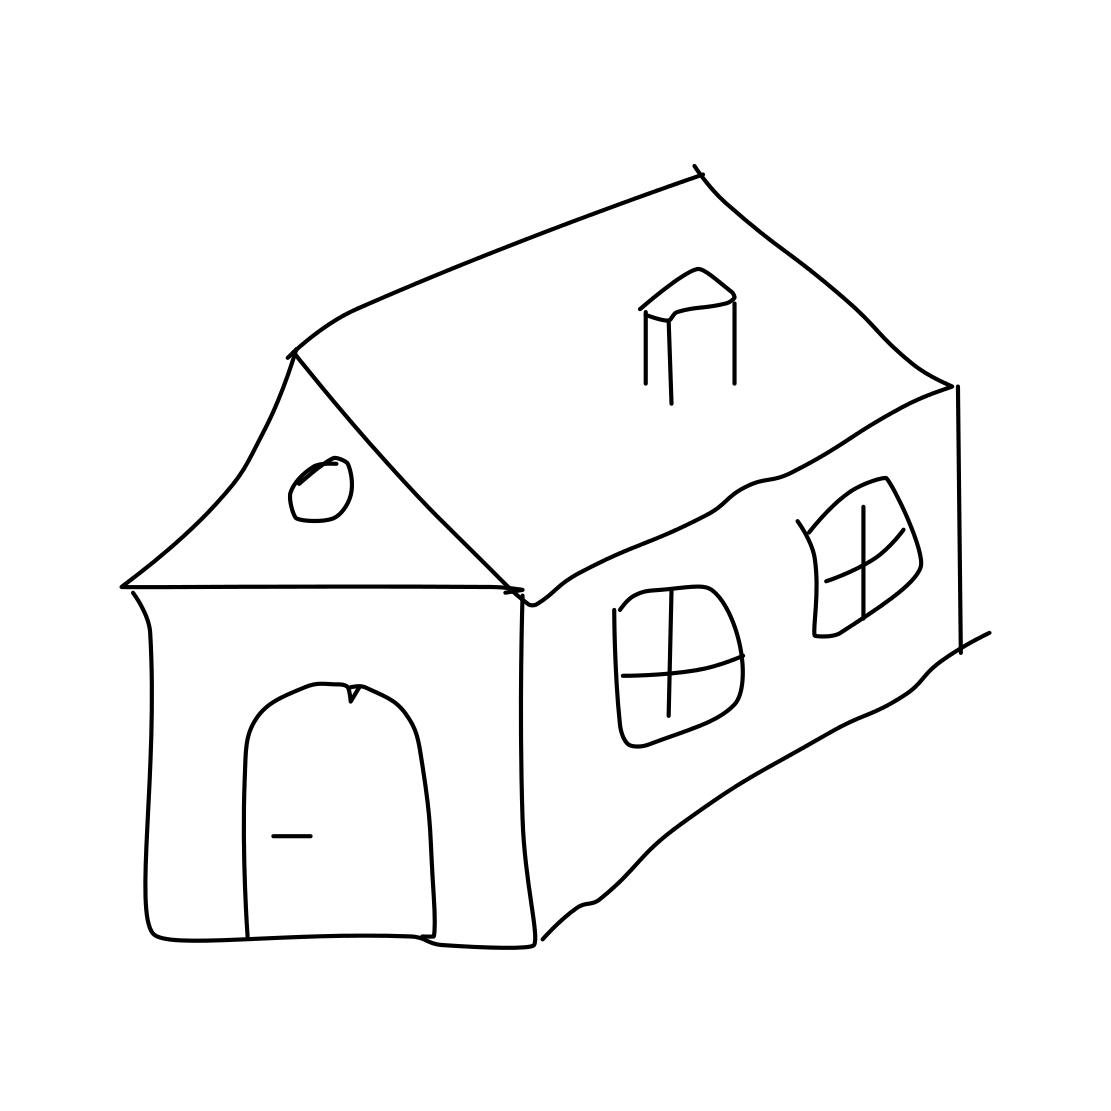House: (94, 126, 999, 951)
